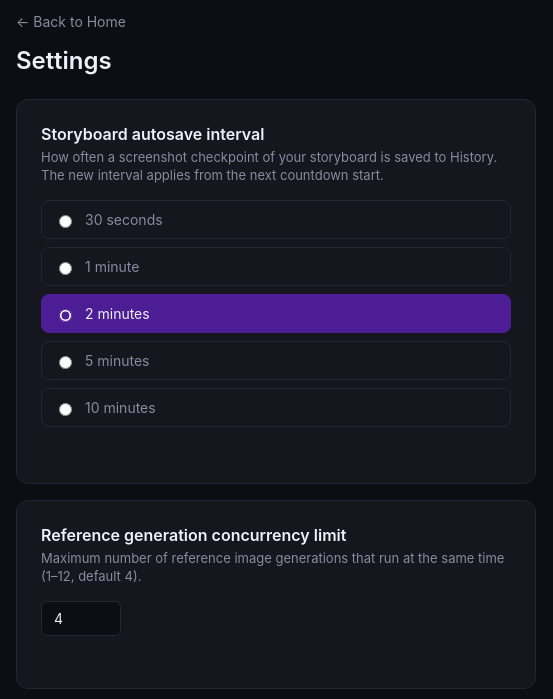
Test: SettingsPage — failed save keeps the previous value (AC-11) › shows a not-saved message and keeps the stored interval selected
Expected: the radio button labelled "2 minutes" is shown, [59,308,72,322]
Step 1. Click the radio button labelled "10 minutes" → [66, 409], box [59,402,72,416]
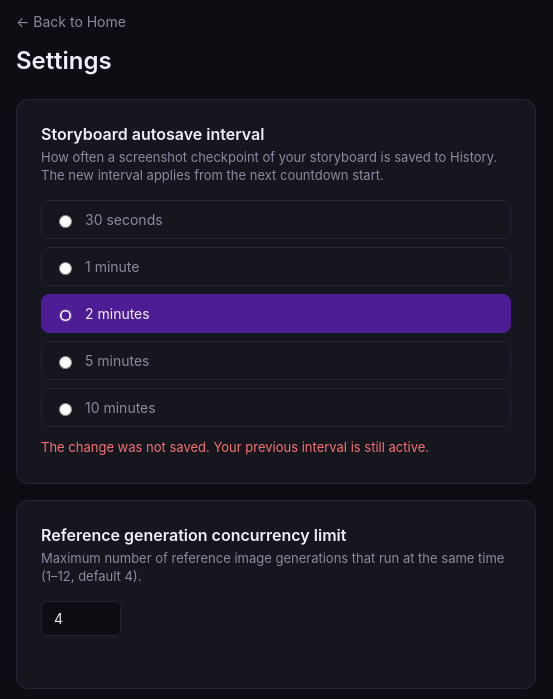
Expected: the radio button labelled "2 minutes" is checked, [59,308,72,322]
Result: the text "not saved" is shown at [41,439,429,455]
